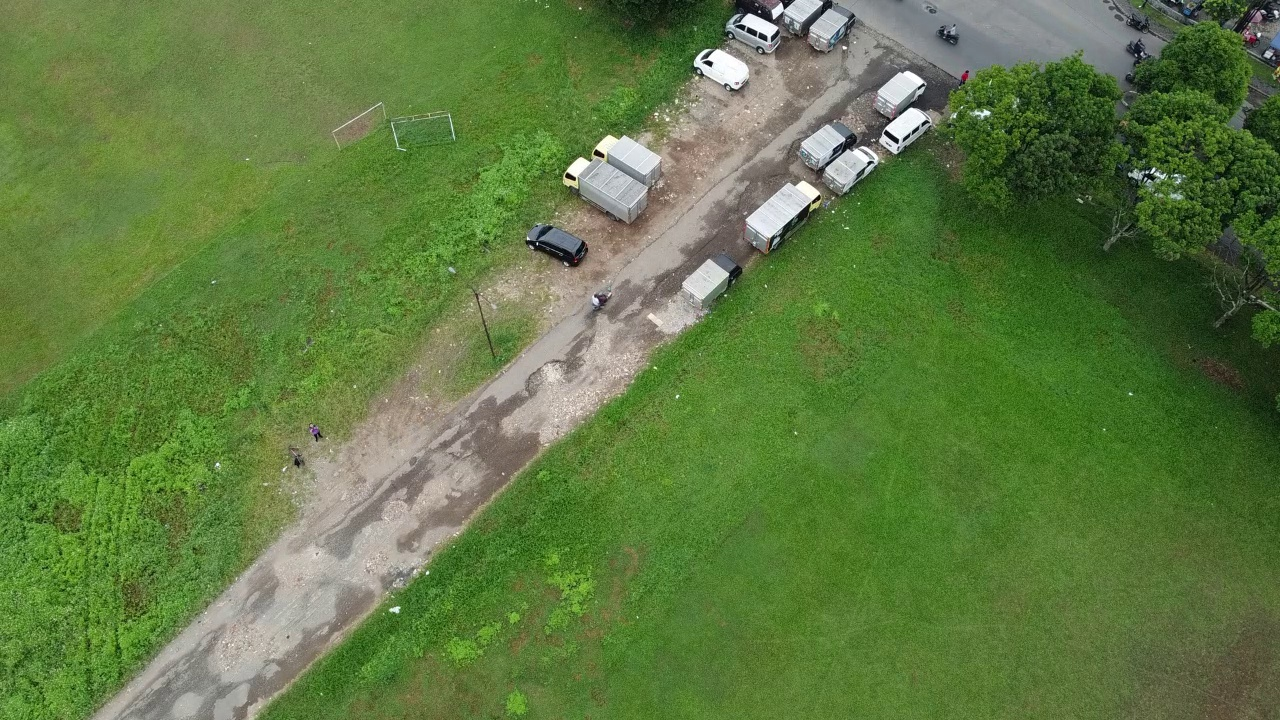mobil: (517, 221, 596, 272), (690, 46, 754, 96), (877, 105, 937, 156), (720, 13, 782, 54)
